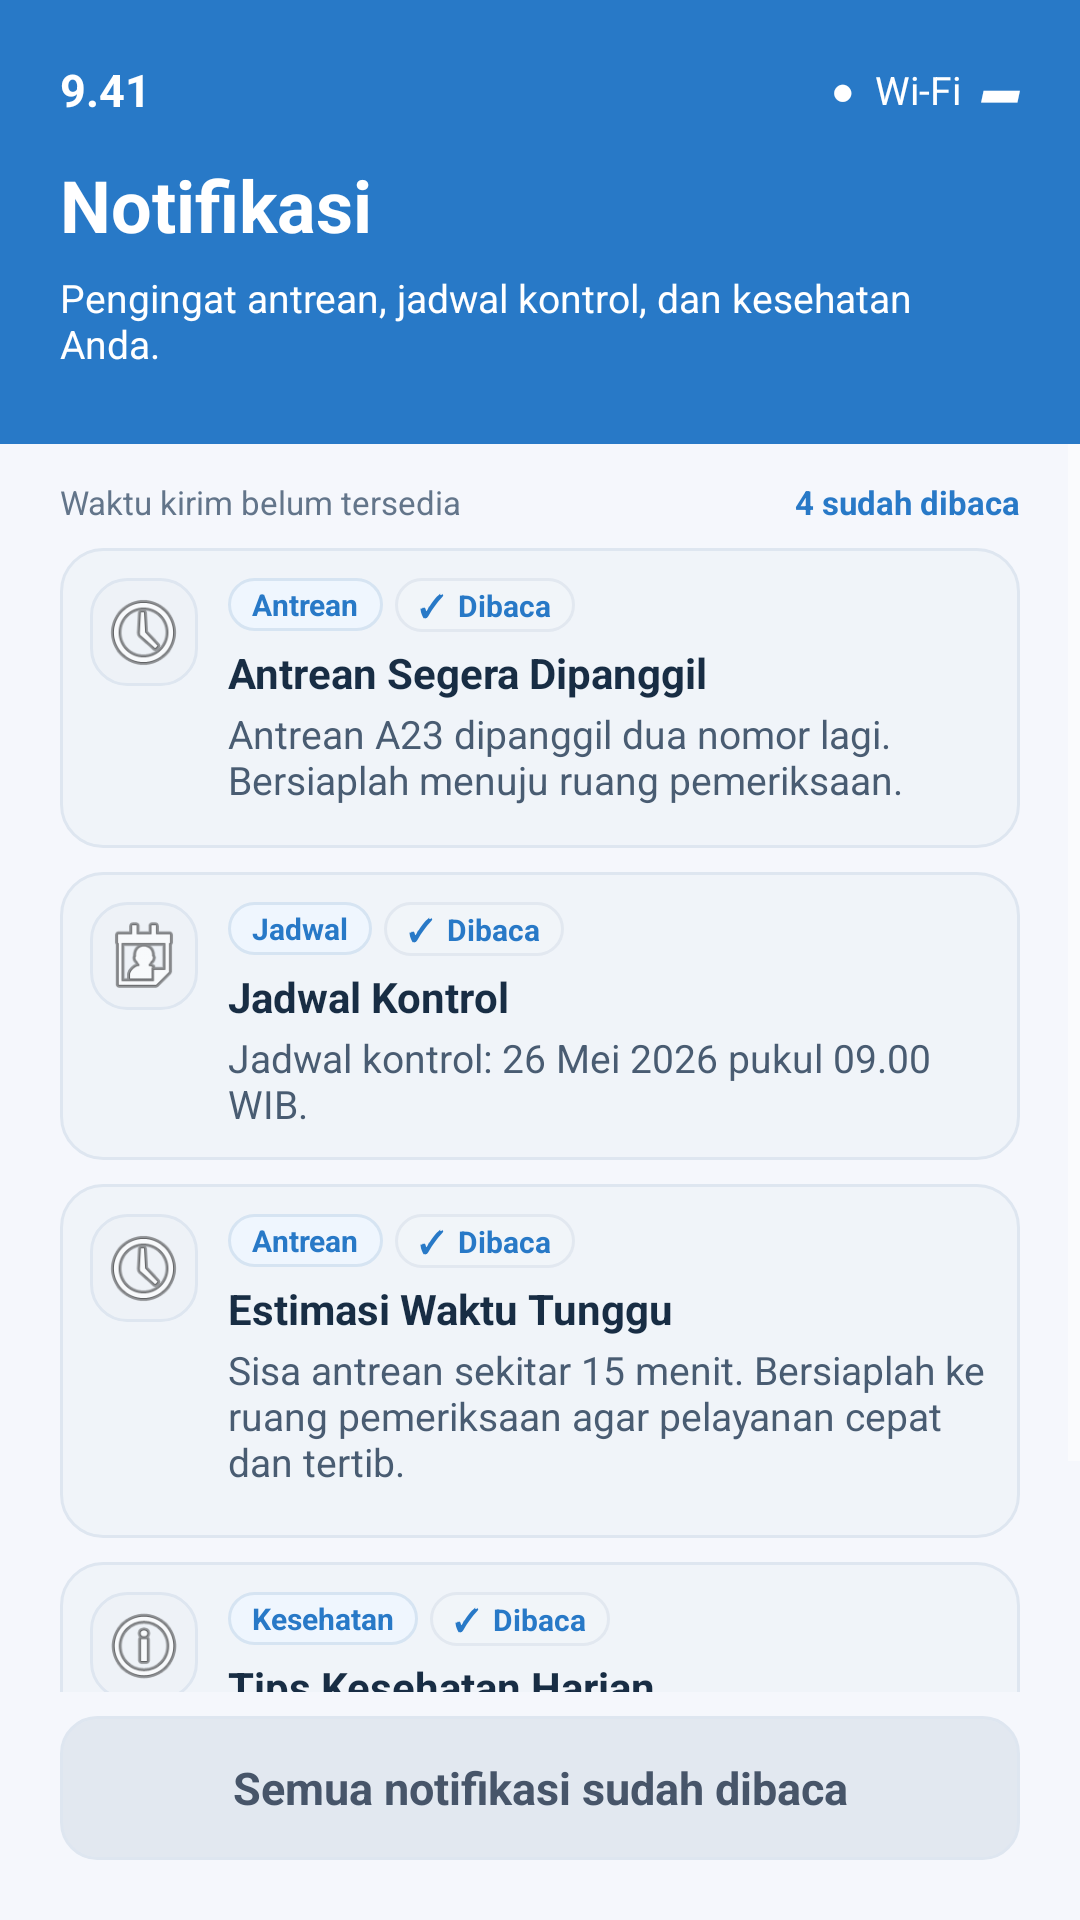

Where icons sit on this 1080 x 1920 app screen, as (x1, y1, x2, y2):
Ikon waktu tunggu: (111, 1236, 176, 1301)
